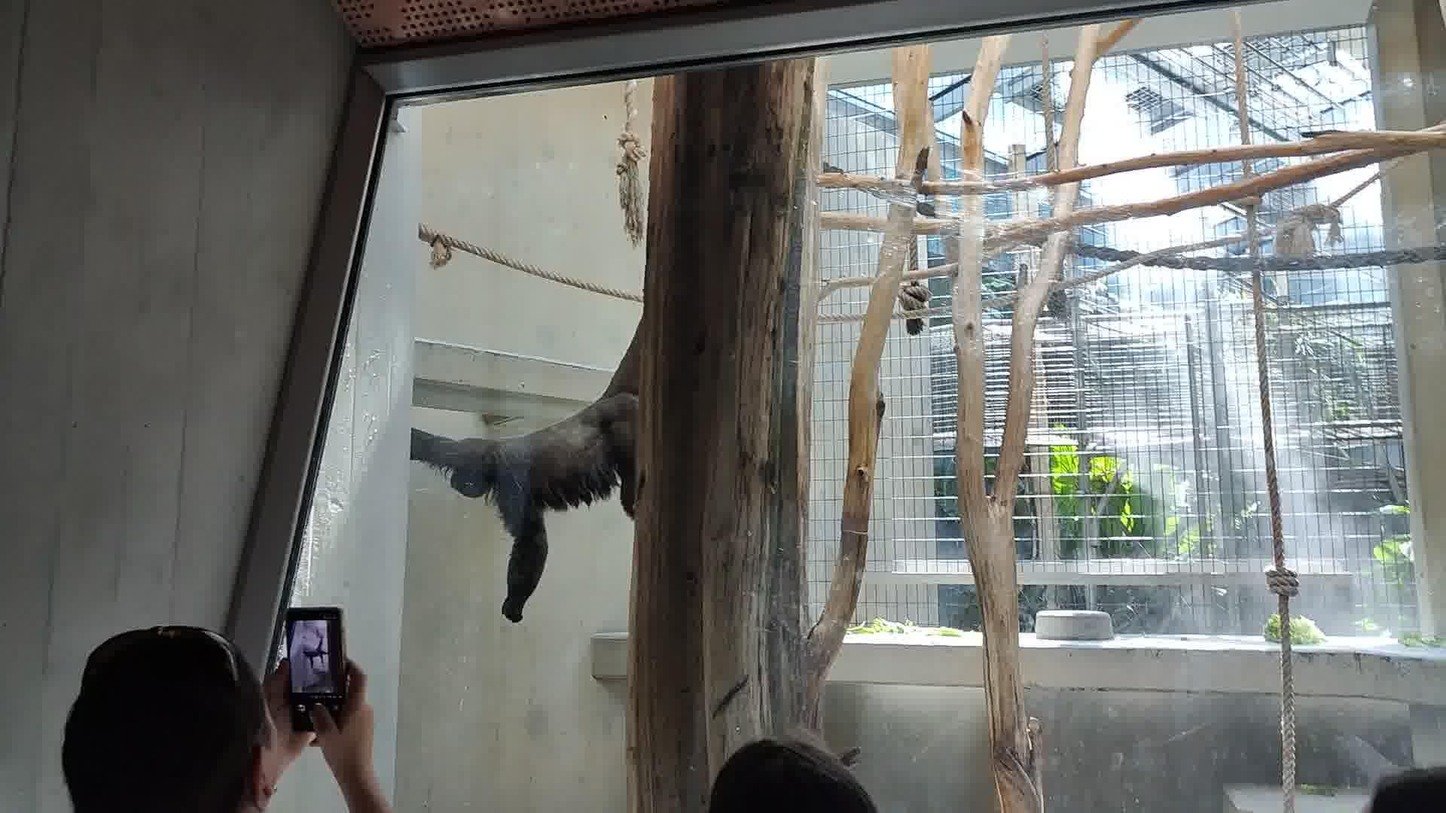boar: (410, 314, 640, 622)
